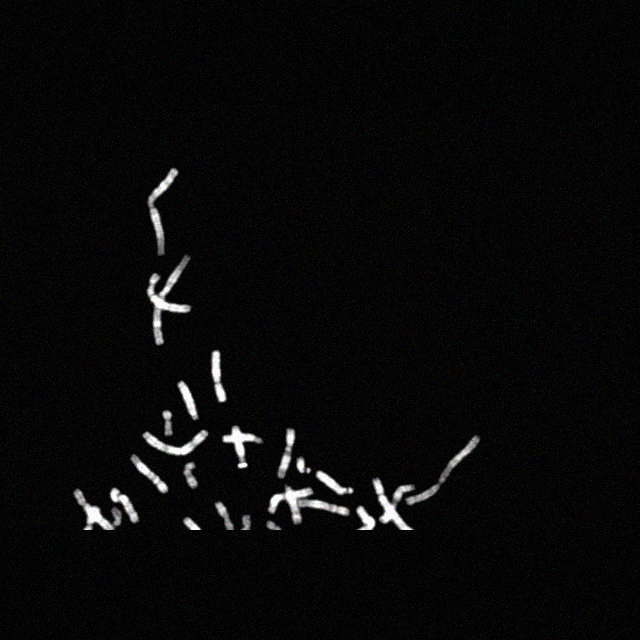chromosome: (407, 436, 479, 504), (153, 255, 191, 345), (146, 168, 178, 258), (373, 476, 413, 530), (144, 429, 210, 455), (147, 274, 191, 312), (73, 488, 114, 528), (131, 453, 167, 492), (380, 484, 416, 522), (270, 488, 314, 512), (110, 488, 140, 522), (276, 428, 296, 478), (315, 470, 353, 496), (298, 498, 350, 516), (230, 424, 250, 470), (177, 381, 199, 421), (210, 351, 226, 404), (284, 486, 302, 522), (213, 501, 234, 531), (222, 433, 262, 445), (356, 506, 374, 530), (184, 462, 198, 488), (84, 507, 100, 529), (162, 409, 172, 437), (296, 458, 312, 474), (184, 516, 200, 530), (110, 508, 122, 526)
